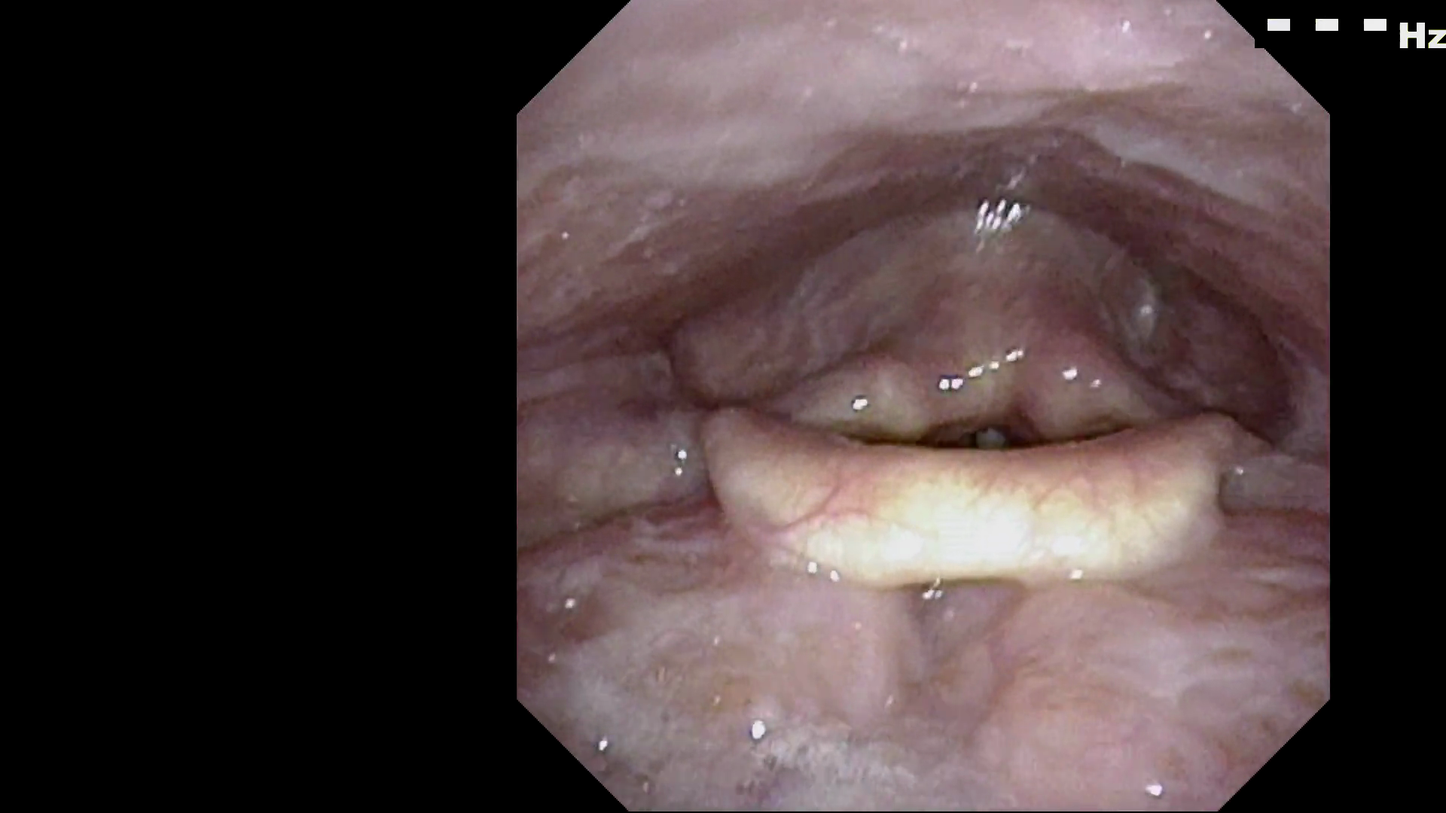epiglottis: (691, 356, 1263, 609)
trachea: (923, 362, 1049, 493)
